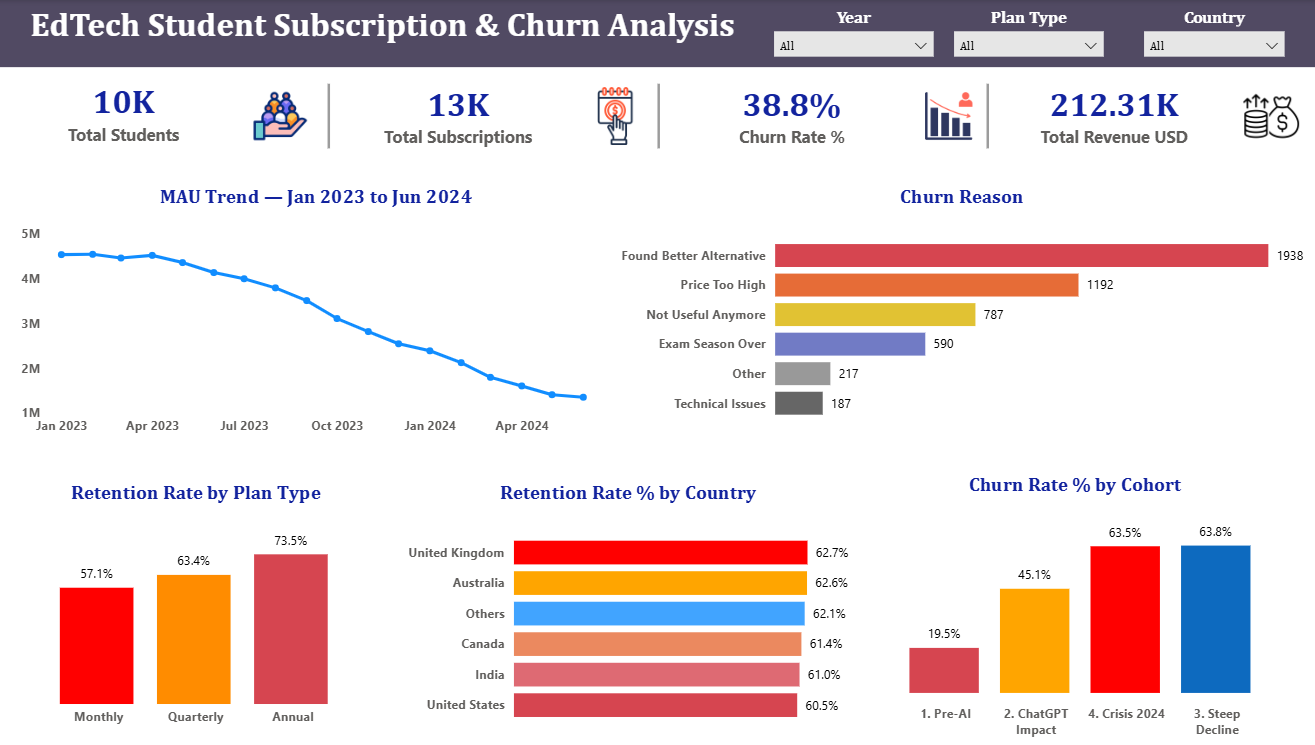

What the dashboard file says about the page in this screenshot:
{"tool":"powerbi","page":{"name":"Page 1","canvas":[1280,720],"ordinal":0},"visuals":[{"type":"textbox","box":[0,0,1280,65.1],"z":0},{"type":"lineChart","title":"MAU Trend — Jan 2023 to Jun 2024","fields":{"Y":["Sum(mau_monthly.MAU)"],"Category":["mau_monthly.Month_Label"]},"box":[18.8,178.8,578.8,250],"z":1000},{"type":"clusteredBarChart","title":"Churn Reason","fields":{"Category":["subscriptions.Churn_Reason"],"Y":["CountNonNull(subscriptions.Sub_ID)"]},"box":[597.5,178.8,670,238.8],"z":2000},{"type":"clusteredColumnChart","title":"Retention Rate by Plan Type","fields":{"Category":["subscriptions.Plan_Type"],"Y":["subscriptions.Retention Rate %"]},"box":[18.8,465,347.5,245],"z":3000},{"type":"columnChart","fields":{"Category":["subscriptions.Cohort"],"Y":["subscriptions.Churn Rate %"]},"box":[828.8,456.2,425,263.8],"z":4000},{"type":"slicer","title":"Plan Type","fields":{"Values":["subscriptions.Plan_Type"]},"box":[914.5,7.2,164.1,49.5],"z":5000},{"type":"slicer","title":"Country","fields":{"Values":["subscriptions.Country"]},"box":[1097.9,7.2,155.6,49.5],"z":6000},{"type":"slicer","title":"Year","fields":{"Values":["subscriptions.Sub_Start_Year"]},"box":[741.2,7.5,173.8,77.5],"z":7000},{"type":"cardVisual","fields":{"Data":["subscriptions.Total Students","subscriptions.Total Subscriptions","subscriptions.Churn Rate %","subscriptions.Total Revenue USD"]},"box":[0,76,1280,72.4],"z":8000},{"type":"barChart","fields":{"Category":["subscriptions.Country"],"Y":["subscriptions.Retention Rate %"]},"box":[392.5,465,436.2,245],"z":9000}]}

Visuals, with their boxes in screenshot pixels (x1, y1, x2, y2), scaled from the page's 1280x720 canvas onto the 1315x745 screenshot:
textbox: locate(0, 0, 1314, 67)
"MAU Trend — Jan 2023 to Jun 2024" lineChart: locate(19, 185, 614, 444)
"Churn Reason" clusteredBarChart: locate(614, 185, 1302, 432)
"Retention Rate by Plan Type" clusteredColumnChart: locate(19, 481, 376, 735)
columnChart - subscriptions.Cohort x subscriptions.Churn Rate %: locate(851, 472, 1288, 744)
"Plan Type" slicer: locate(940, 7, 1108, 59)
"Country" slicer: locate(1128, 7, 1288, 59)
"Year" slicer: locate(761, 8, 940, 88)
cardVisual - subscriptions.Total Students x subscriptions.Total Subscriptions: locate(0, 79, 1314, 154)
barChart - subscriptions.Country x subscriptions.Retention Rate %: locate(403, 481, 851, 735)
